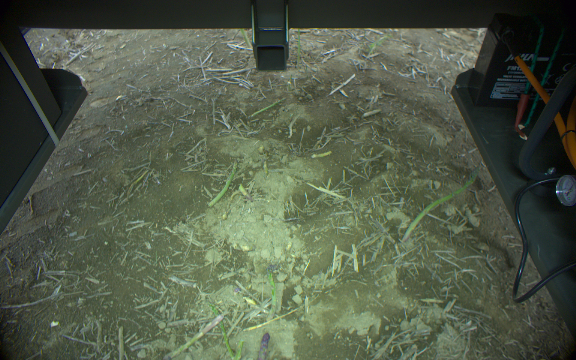aspa: (401, 166, 480, 243), (208, 303, 244, 360), (208, 159, 239, 208), (266, 262, 282, 323), (247, 96, 288, 119), (368, 33, 389, 57), (258, 332, 271, 360), (295, 28, 303, 64), (238, 28, 251, 48), (237, 183, 251, 201)
